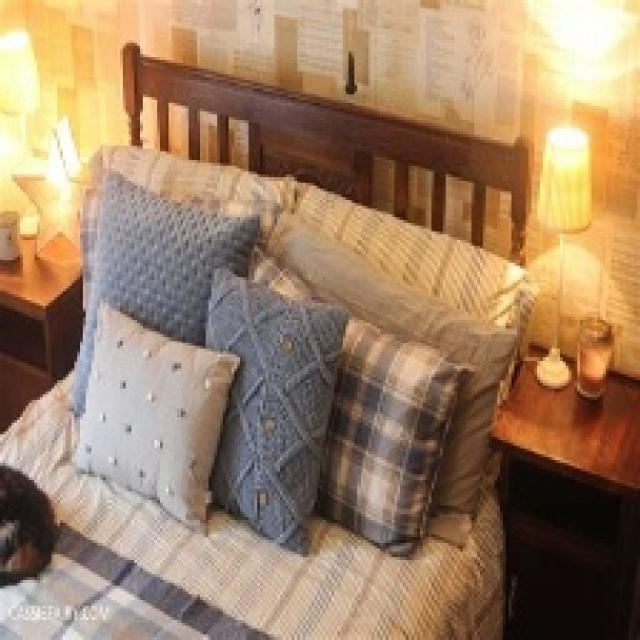Bed: (0, 40, 537, 637)
